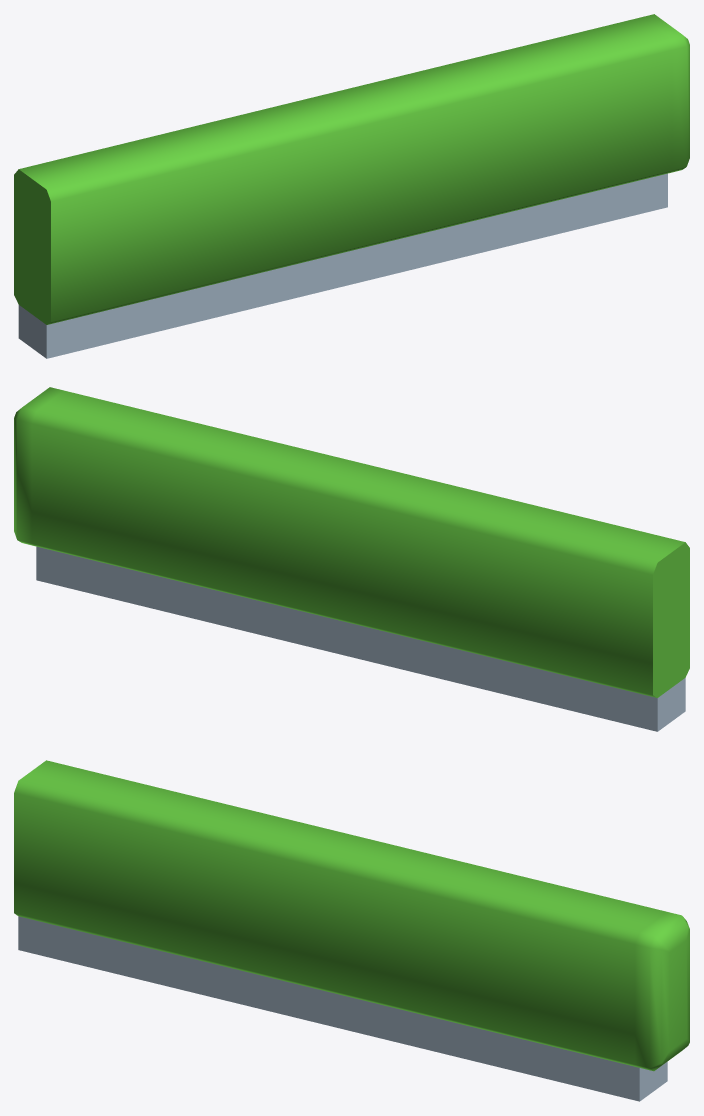
File: Wall_end.fbx
3 views of the same model, one above another, from view 1: azimuth 30°, elevation 25°; view 2: azimuth 150°, elevation 25°; view 3: azimuth 330°, elevation 25° (orthographic).
Visible parts, largest first — view 1: Fence_end; view 2: Fence_end; view 3: Fence_end.
Part boxes in pixels (x1,y1,x2,y2): Fence_end: (14, 14, 689, 358); Fence_end: (14, 387, 689, 731); Fence_end: (14, 760, 689, 1101).
Bounding box in the file's own units: 4 × 1 × 0.3977.
